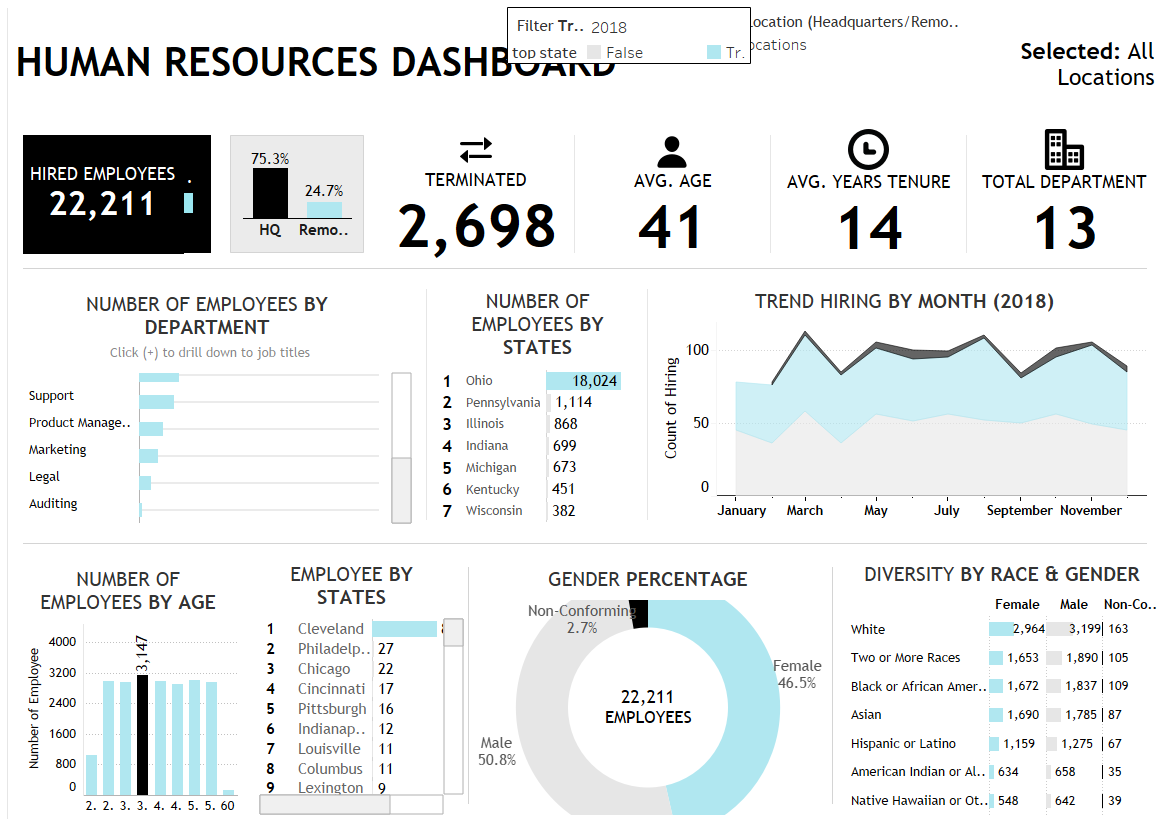

The dashboard page shown, as its layout file describes it:
{"tool":"tableau","page":{"name":"Overview","canvas":[1666,868],"ordinal":1},"visuals":[{"type":"blank","box":[9.5,8.2,92,75]},{"type":"blank","box":[101.5,8.2,1,851.7]},{"type":"text","box":[102.5,8.2,990,112]},{"type":"parameter","param":"[Parameters].[Parameter 2]","box":[1092.5,8.2,263,112]},{"type":"text","box":[1396,8.2,260.5,112]},{"type":"parameter","param":"[Parameters].[Parameter 1]","box":[724,13,346,26.5]},{"type":"legend","title":"bar city - tooltip","param":"[federated.0ey7tr31selp4a19schg91g7evsp].[usr:Calculation_4137259949669974019:nk","box":[724,39.5,346,26.5]},{"type":"blank","box":[9.5,83.2,92,213]},{"type":"blank","box":[321.3,119.5,1.2,77.6]},{"type":"worksheet","title":"total employees","mark":"Shape","box":[103,120,181,148]},{"type":"text","box":[284,120,165,65]},{"type":"worksheet","title":"hc/remote","mark":"Automatic","rows":["Human Resources_F206DD02EB19420180BA8261C71A3398"],"cols":["location"],"box":[448.5,120.2,164,148]},{"type":"image","param":"Image/reverse-svgrepo-com.svg","box":[612.5,120.2,195,46]},{"type":"blank","box":[807.5,120.2,1,148]},{"type":"image","param":"Image/person-svgrepo-com.svg","box":[808.5,120.2,195,50]},{"type":"blank","box":[1003.5,120.2,1,148]},{"type":"image","param":"Image/time-svgrepo-com.svg","box":[1004.5,120.2,195,50]},{"type":"blank","box":[1199.5,120.2,1,148]},{"type":"image","param":"Image/office-buildings-svgrepo-com.svg","box":[1200.5,120.2,195,50]},{"type":"worksheet","title":"termination","mark":"Shape","box":[612.5,166.2,195,102]},{"type":"worksheet","title":"avg. age","mark":"Shape","box":[808.5,170.2,195,97]},{"type":"worksheet","title":"avg. tenure","mark":"Shape","box":[1004.5,170.2,195,98]},{"type":"worksheet","title":"total department","mark":"Shape","box":[1200.5,170.2,195,98]},{"type":"worksheet","title":"active","mark":"Bar","rows":["Calculation_364650837488418818"],"box":[284,185,165,83]},{"type":"blank","box":[102.5,268.2,1554,6]},{"type":"worksheet","title":"department","mark":"Line","rows":["department"],"cols":["Calculation_4137259949722652690"],"box":[117.5,274.2,403,294]},{"type":"blank","box":[520.5,274.2,1,294]},{"type":"worksheet","title":"bar states","mark":"Bar","rows":["Calculation_4137259949675261960","location_state"],"cols":["Human Resources_F206DD02EB19420180BA8261C71A3398"],"box":[521.5,274.2,615,294]},{"type":"blank","box":[1136.5,274.2,11,294]},{"type":"worksheet","title":"trend hiring","mark":"Area","rows":["Human Resources_F206DD02EB19420180BA8261C71A3398"],"cols":["hire_date"],"box":[1147.5,274.2,509,294]},{"type":"blank","box":[102.5,568.2,1554,17]},{"type":"worksheet","title":"employee by age","mark":"Automatic","rows":["Human Resources_F206DD02EB19420180BA8261C71A3398"],"cols":["Age (bin) 2"],"box":[102.5,585.2,248,274.6]},{"type":"worksheet","title":"bar city - tooltip","mark":"Bar","rows":["Calculation_880735207486566401","location_city"],"cols":["Human Resources_F206DD02EB19420180BA8261C71A3398"],"box":[350.5,585.2,212,274.6]},{"type":"blank","box":[562.5,585.2,1,274.6]},{"type":"worksheet","title":"gender pie","mark":"Pie","rows":["Calculation_6859826657799290881","Calculation_6859826657799290881"],"box":[563.5,585.2,358,274.6]},{"type":"blank","box":[921.5,585.2,14,274.6]},{"type":"worksheet","title":"diversity race & gender","mark":"Automatic","rows":["race"],"cols":["gender","Human Resources_F206DD02EB19420180BA8261C71A3398"],"box":[935.5,585.2,721,274.6]}]}

Visuals, with their boxes on the page's 1666x868 design canvas (x1, y1, x2, y2). These are canvas units, not pixel positions in the 1169x827 screenshot, which may show the page scaled, cropped or inside an application window:
blank: box=[10, 8, 102, 83]
blank: box=[102, 8, 102, 860]
text: box=[102, 8, 1092, 120]
parameter: box=[1092, 8, 1356, 120]
text: box=[1396, 8, 1656, 120]
parameter: box=[724, 13, 1070, 40]
"bar city - tooltip" legend: box=[724, 40, 1070, 66]
blank: box=[10, 83, 102, 296]
blank: box=[321, 120, 322, 197]
"total employees" worksheet (Shape marks): box=[103, 120, 284, 268]
text: box=[284, 120, 449, 185]
"hc/remote" worksheet: box=[448, 120, 612, 268]
image: box=[612, 120, 808, 166]
blank: box=[808, 120, 808, 268]
image: box=[808, 120, 1004, 170]
blank: box=[1004, 120, 1004, 268]
image: box=[1004, 120, 1200, 170]
blank: box=[1200, 120, 1200, 268]
image: box=[1200, 120, 1396, 170]
"termination" worksheet (Shape marks): box=[612, 166, 808, 268]
"avg. age" worksheet (Shape marks): box=[808, 170, 1004, 267]
"avg. tenure" worksheet (Shape marks): box=[1004, 170, 1200, 268]
"total department" worksheet (Shape marks): box=[1200, 170, 1396, 268]
"active" worksheet (Bar marks): box=[284, 185, 449, 268]
blank: box=[102, 268, 1656, 274]
"department" worksheet (Line marks): box=[118, 274, 520, 568]
blank: box=[520, 274, 522, 568]
"bar states" worksheet (Bar marks): box=[522, 274, 1136, 568]
blank: box=[1136, 274, 1148, 568]
"trend hiring" worksheet (Area marks): box=[1148, 274, 1656, 568]
blank: box=[102, 568, 1656, 585]
"employee by age" worksheet: box=[102, 585, 350, 860]
"bar city - tooltip" worksheet (Bar marks): box=[350, 585, 562, 860]
blank: box=[562, 585, 564, 860]
"gender pie" worksheet (Pie marks): box=[564, 585, 922, 860]
blank: box=[922, 585, 936, 860]
"diversity race & gender" worksheet: box=[936, 585, 1656, 860]
